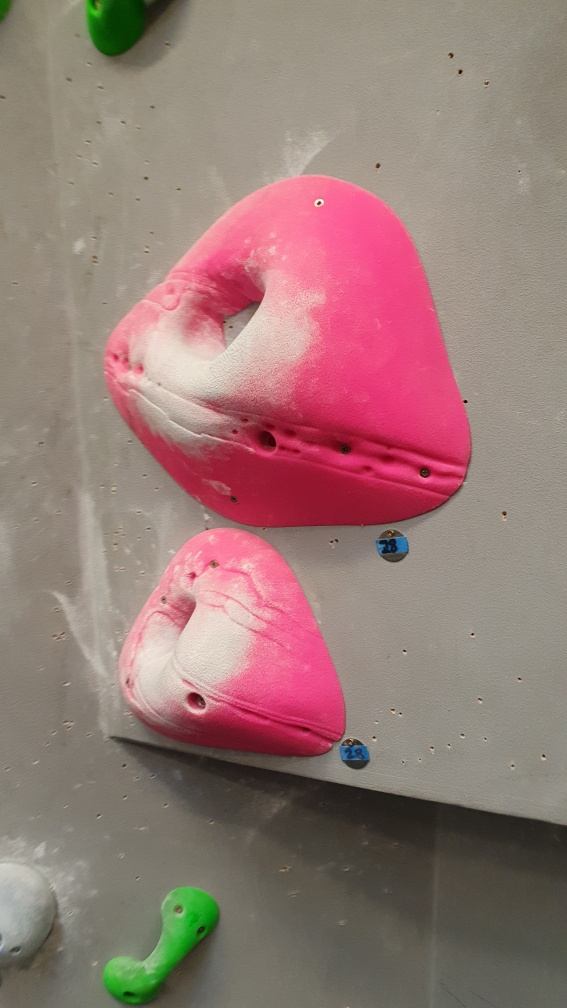Hand Start: (373, 528, 415, 563), (338, 734, 373, 775)
Pocket: (100, 169, 474, 529), (117, 525, 351, 762)
